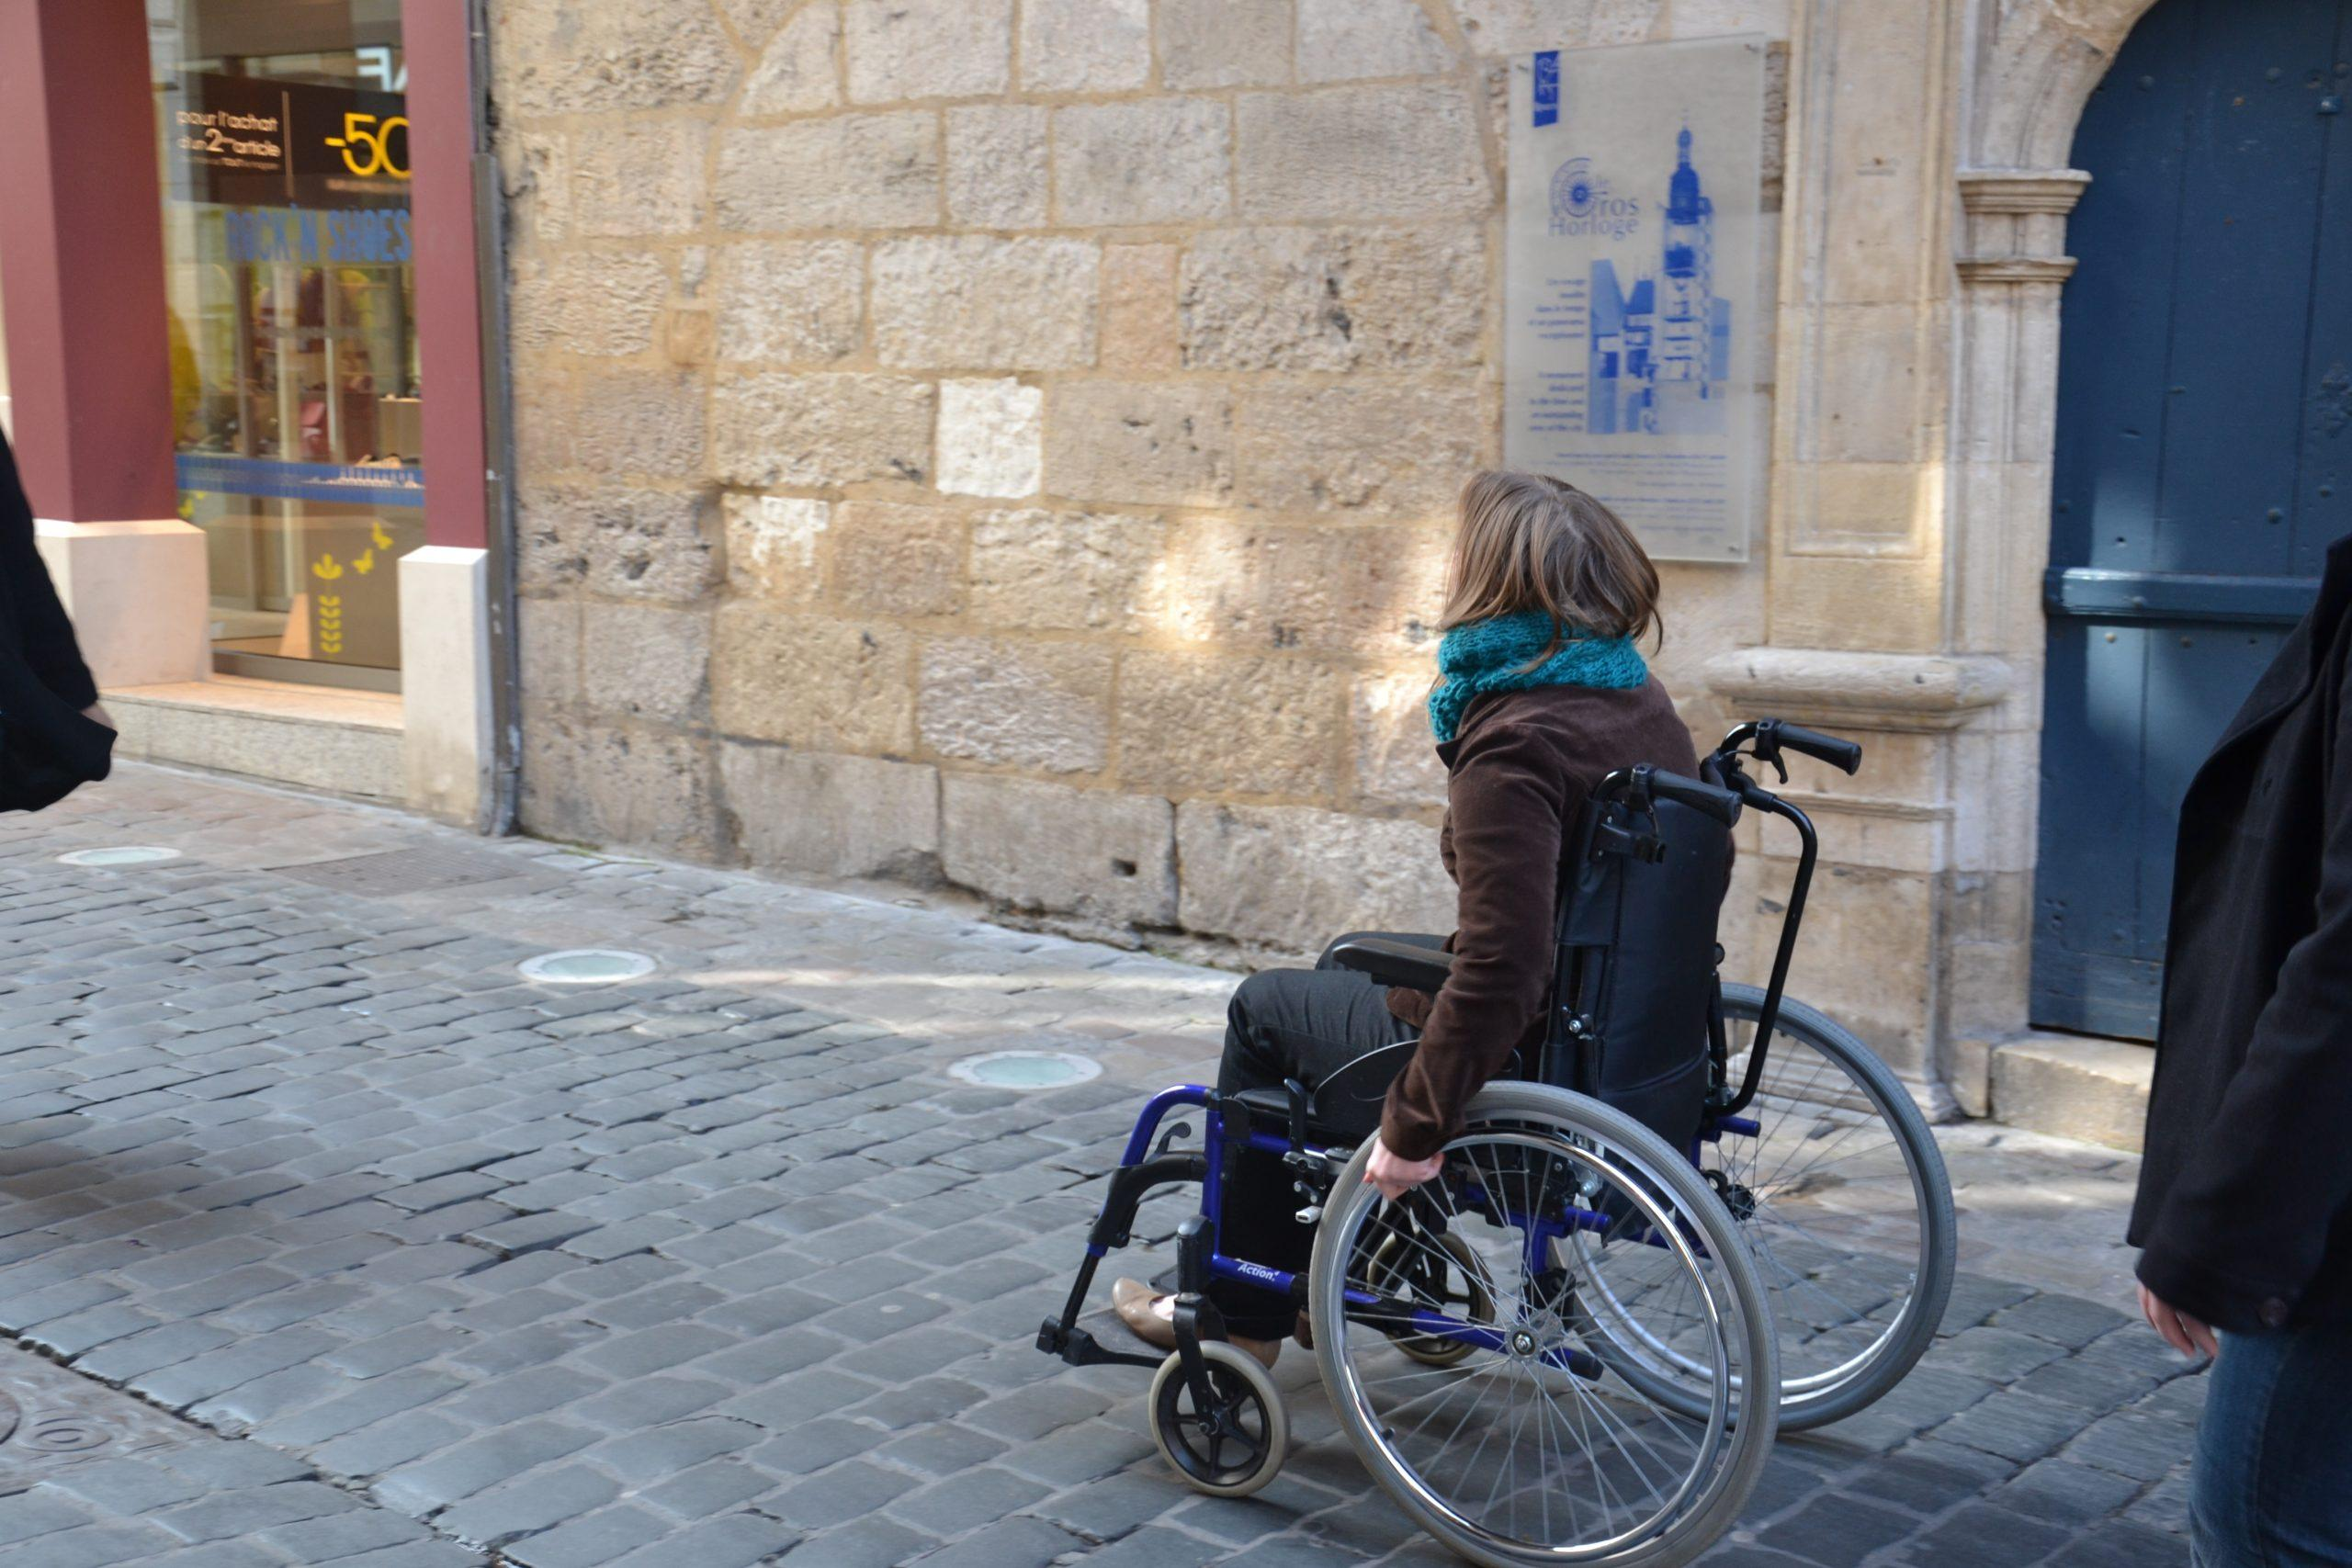wheelchair: (1034, 467, 1960, 1568)
